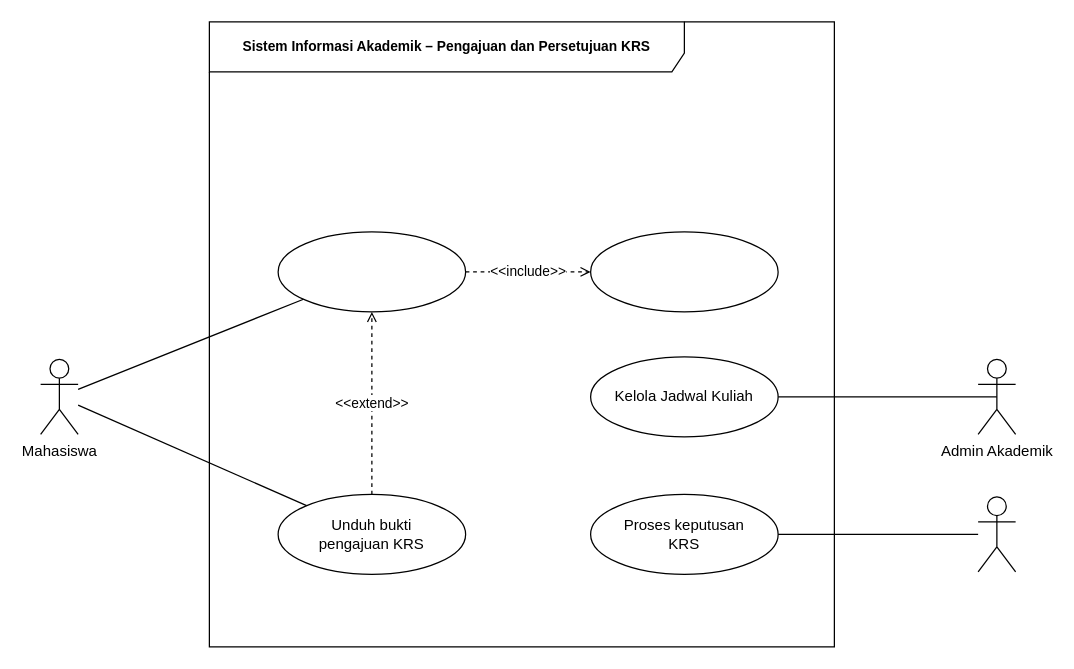
Image size: 1074x669. Some labels were removed from this diagram. Each missing label, with the centre of its shape:
Ajukan KRS: [371,271]
Dosen Wali: [996,534]
Validasi KRS: [683,271]
